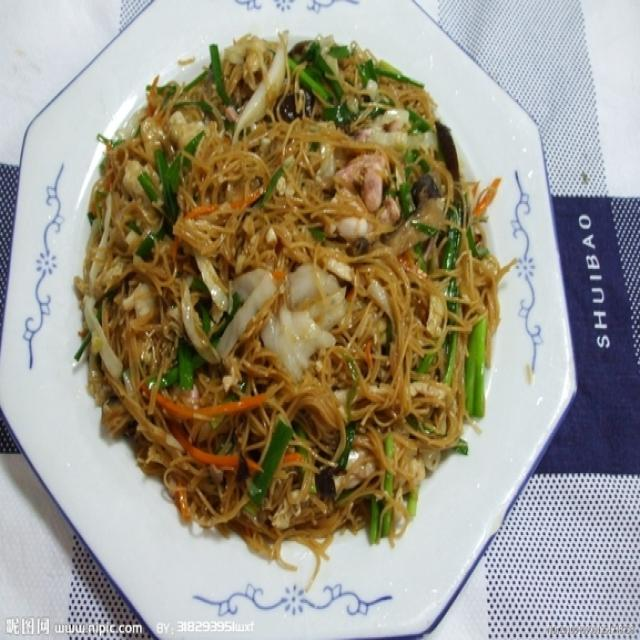面条主食: (3, 4, 636, 637)
